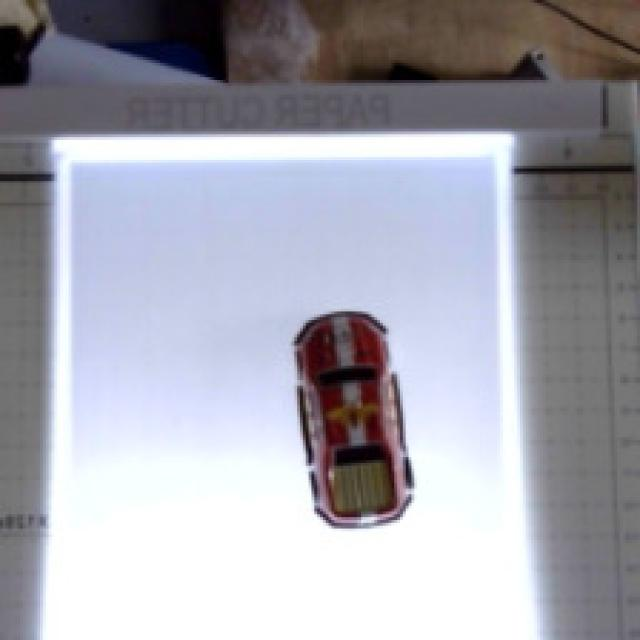Red Car: (217, 280, 456, 578)
